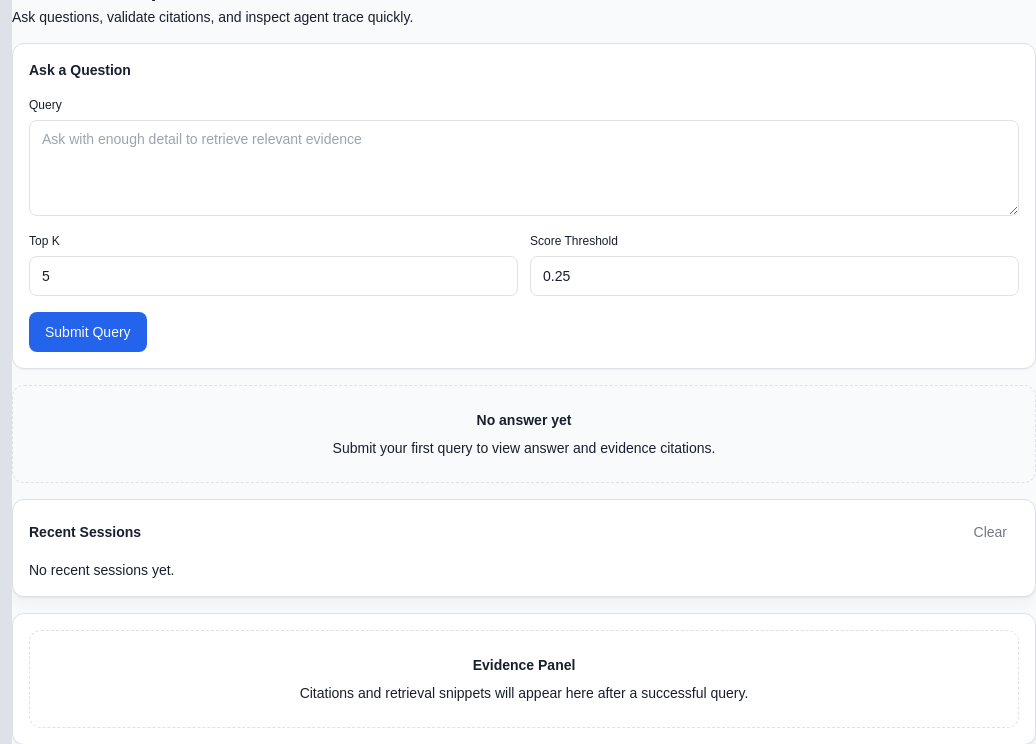
it: ChatPage › submits question and renders answer with evidence citations
The image size is (1036, 744).
Type "How does retrieval work?" into the text box with test id "chat-query-input" at x=524, y=168, box [29,120,1019,216]
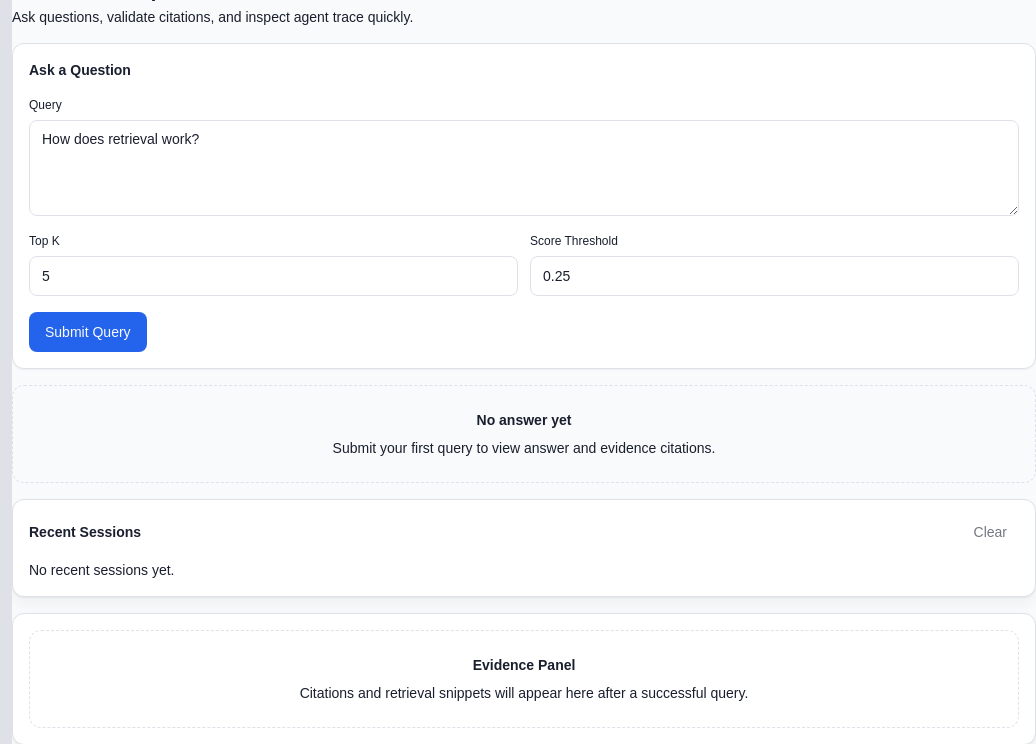
Click the button with test id "chat-submit-button" at x=88, y=332, box [29,312,147,352]
(page scrolled)
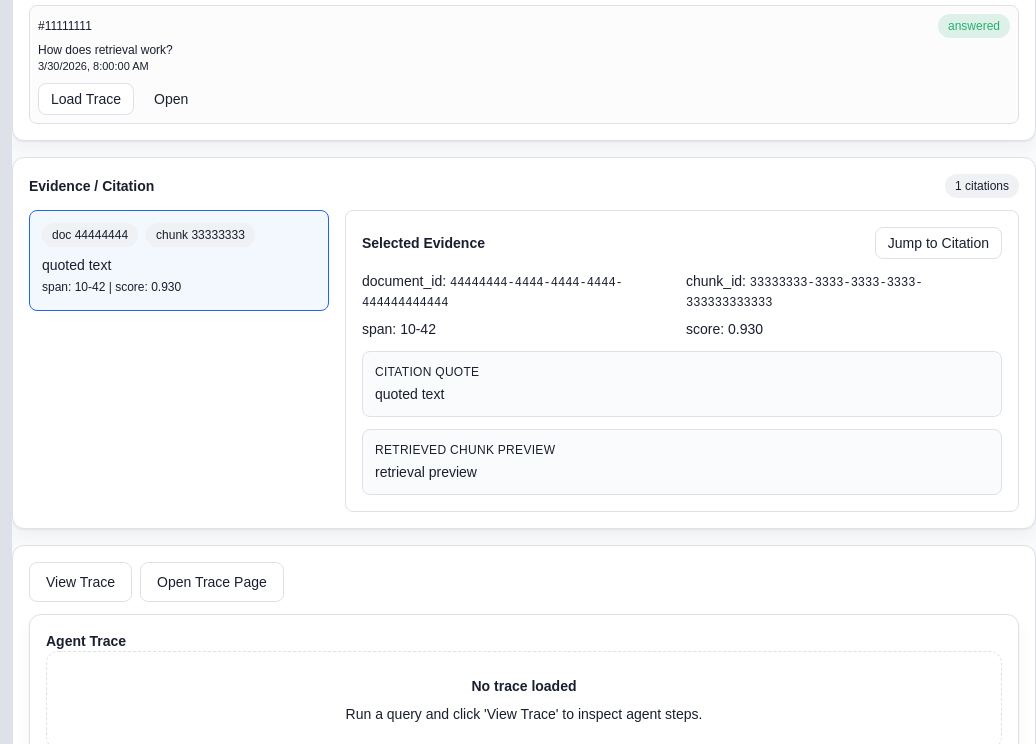
Check: the text "quoted text" is shown, box [42,256,111,272]
Check: the text "#11111111" is shown, box [38,18,92,34]
Check: the element with test id "evidence-detail" shows "retrieval preview", box [375,464,477,480]
